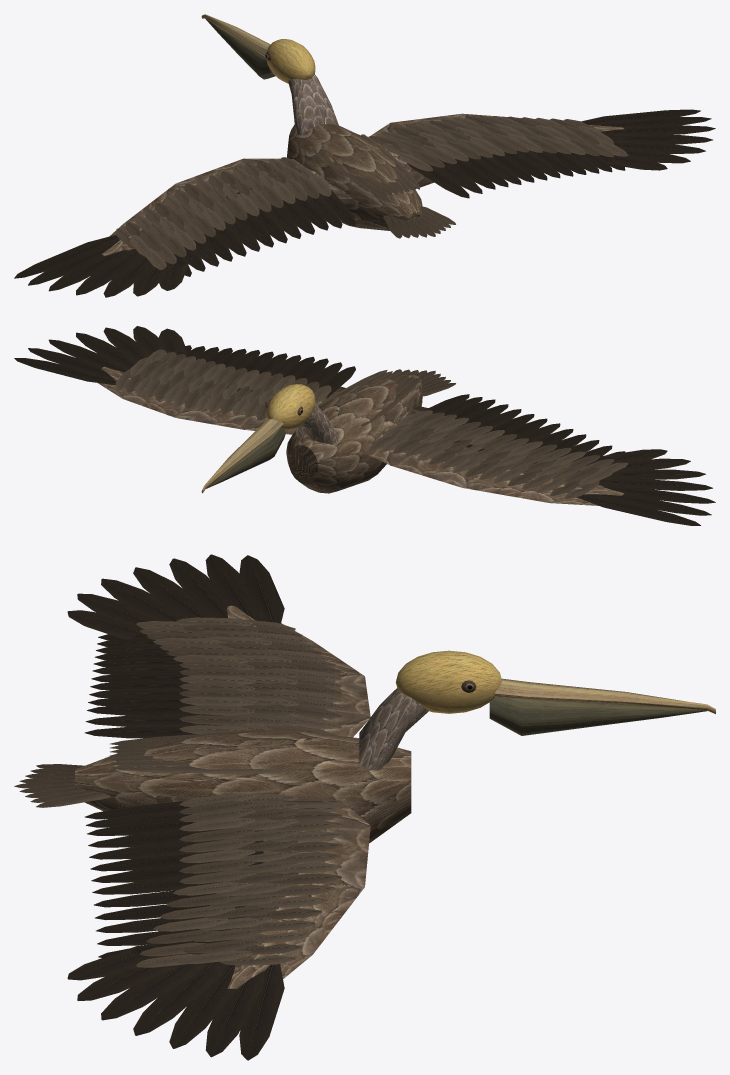
The model's file is brown-pelican.glb.
The picture shows the model from 3 angles, top to bottom: view 1: azimuth 30°, elevation 25°; view 2: azimuth 150°, elevation 25°; view 3: azimuth 270°, elevation 25°; orthographic projection. The views are drawn at different scales.
Visible parts, largest first — view 1: BrownPelican; view 2: BrownPelican; view 3: BrownPelican.
Boxes of the visible parts, x1=… form: BrownPelican: x1=14, y1=14, x2=715, y2=297; BrownPelican: x1=14, y1=326, x2=715, y2=525; BrownPelican: x1=14, y1=554, x2=715, y2=1060.
Size of the model in its own units: 2.06 by 0.38 by 1.21.
Materials: 1 (1 with a texture image).
